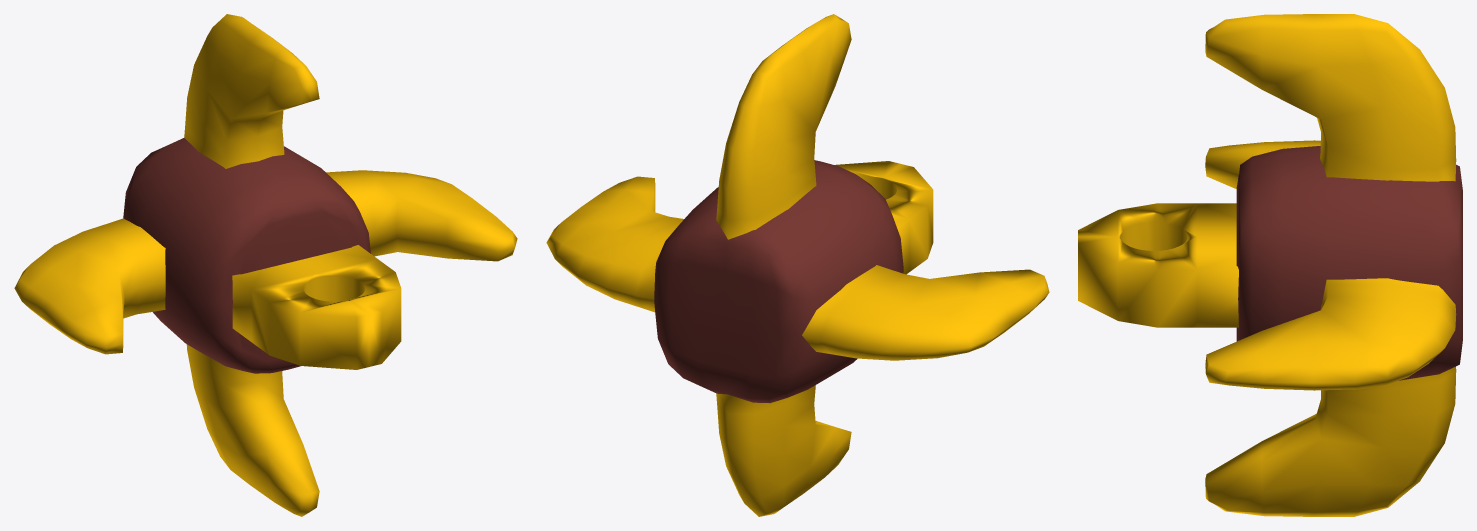
The model's file is hook.glb.
3 renders of one model, left to right at view 1: azimuth 30°, elevation 25°; view 2: azimuth 150°, elevation 25°; view 3: azimuth 270°, elevation 25°, orthographic. The views are drawn at different scales.
Visible parts, largest first — view 1: hook4p; view 2: hook4p; view 3: hook4p.
Boxes of the visible parts, box(x1,y1,x2,y2) form: hook4p: box(14, 14, 517, 516); hook4p: box(546, 14, 1049, 516); hook4p: box(1078, 14, 1462, 516).
Size of the model in its own units: 4.95 by 4.95 by 3.43.
